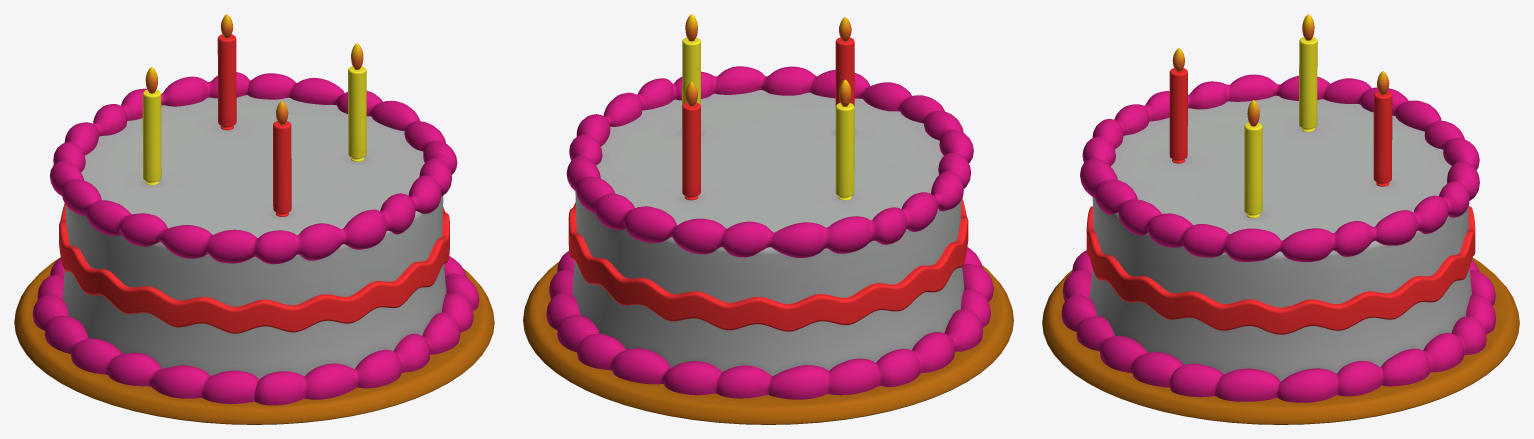
Rendered from food_cake.fbx.
3 views of the same model, side by side, from view 1: azimuth 30°, elevation 25°; view 2: azimuth 150°, elevation 25°; view 3: azimuth 270°, elevation 25° (orthographic). The views are drawn at different scales.
Parts seen in each view (by area): view 1: node_id71; view 2: node_id71; view 3: node_id71.
Part boxes in pixels (x1,y1,x2,y2): node_id71: (14,14,494,424); node_id71: (523,14,1013,424); node_id71: (1042,14,1519,424).
Bounding box in the file's own units: 3.8 × 2.35 × 3.8.
1 material, 1 textured.
